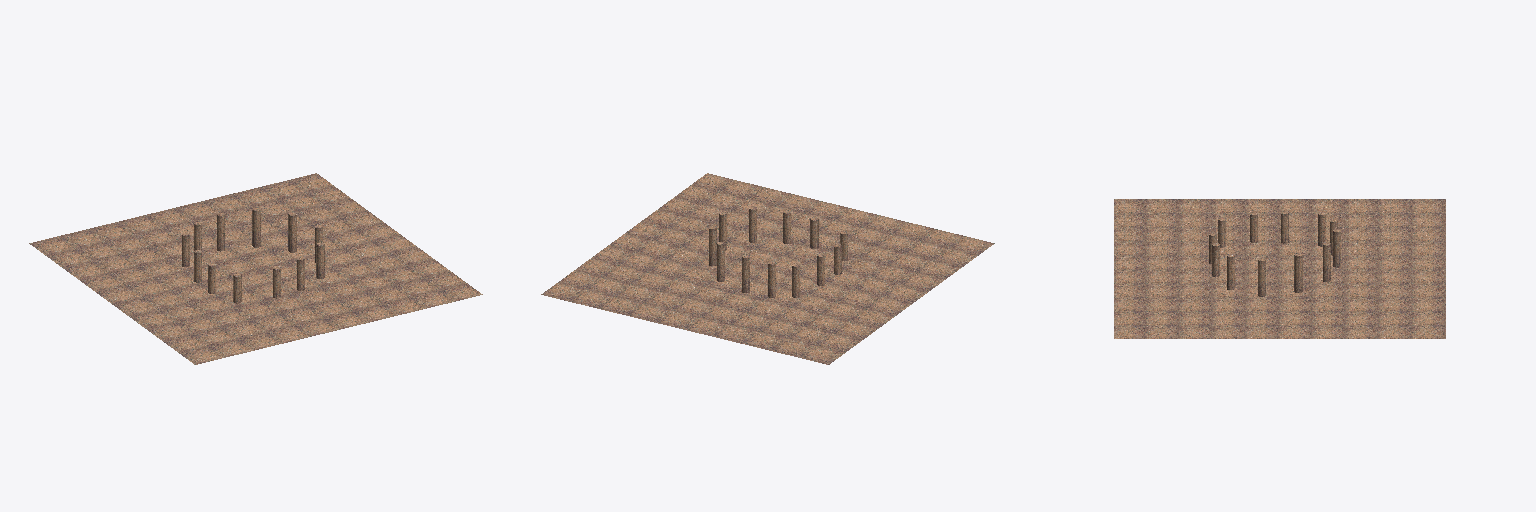
3 renders of one model, left to right at view 1: azimuth 30°, elevation 25°; view 2: azimuth 150°, elevation 25°; view 3: azimuth 270°, elevation 25°, orthographic.
Visible parts, largest first — view 1: Plane_Plane.001; view 2: Plane_Plane.001; view 3: Plane_Plane.001.
Boxes of the visible parts, box(x1,y1,x2,y2) form: Plane_Plane.001: box(29, 173, 482, 364); Plane_Plane.001: box(541, 173, 994, 364); Plane_Plane.001: box(1114, 199, 1445, 338).
Bounding box in the file's own units: 59.3 × 9.45 × 59.3.
Materials: 1 (1 with a texture image).